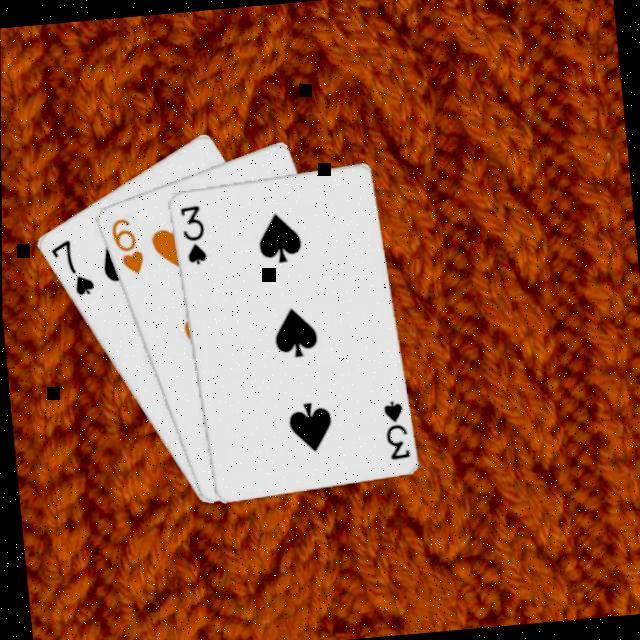3S: (375, 394, 409, 461), (174, 199, 206, 265)
6H: (103, 211, 144, 276)
7S: (43, 232, 95, 299)
